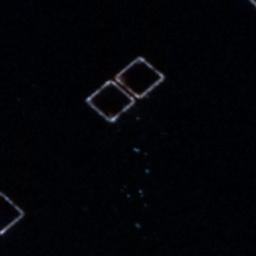square_solid: (111, 53, 168, 102), (83, 78, 138, 124), (1, 185, 35, 240)
